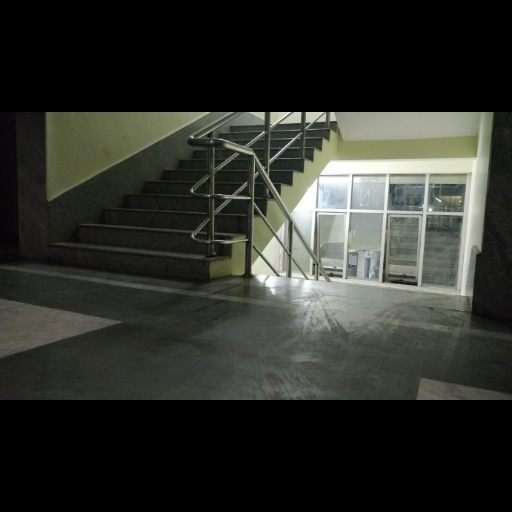Stairs: (54, 112, 334, 281)
